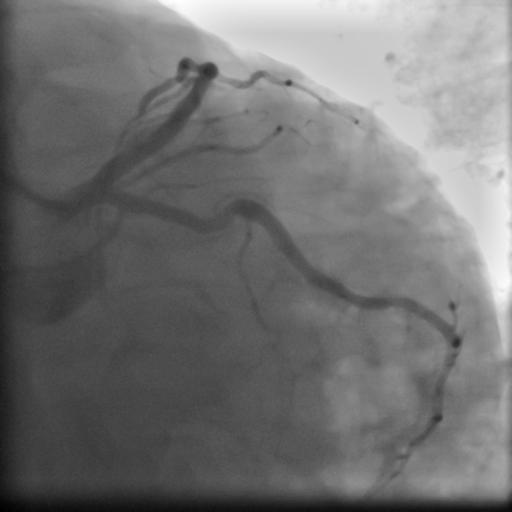Stenosis: (208, 202, 237, 228)
